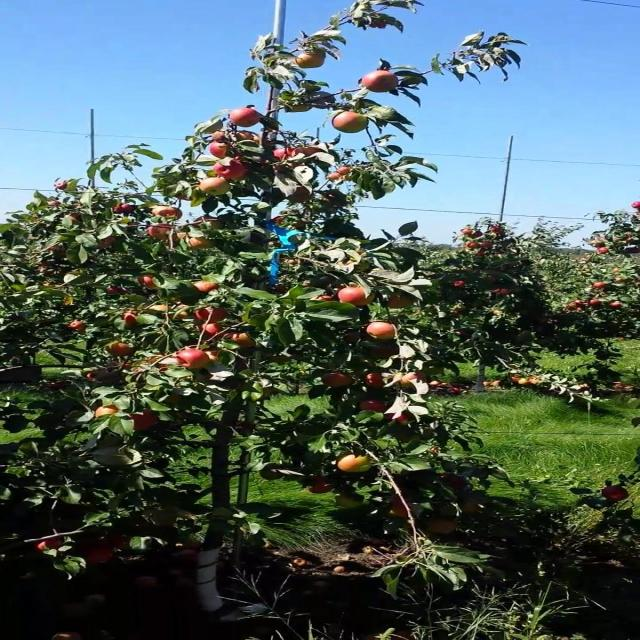apple: (360, 70, 398, 92), (331, 111, 367, 132), (213, 160, 249, 180), (338, 286, 373, 306), (229, 108, 262, 128), (336, 454, 371, 472), (176, 349, 209, 368), (80, 545, 113, 564), (129, 410, 158, 431), (193, 306, 229, 322), (198, 178, 231, 195), (144, 355, 178, 371), (367, 321, 396, 339), (440, 472, 469, 490), (322, 372, 353, 388), (427, 518, 458, 534), (369, 342, 400, 358), (600, 485, 629, 502), (104, 341, 136, 356), (296, 52, 324, 69), (307, 476, 333, 494), (393, 372, 424, 387), (336, 492, 364, 508), (147, 222, 173, 239), (387, 294, 416, 309), (151, 205, 182, 219), (193, 215, 224, 229), (287, 185, 311, 202), (384, 410, 413, 424), (231, 332, 256, 348), (209, 141, 231, 158), (36, 538, 64, 551), (358, 400, 387, 412), (327, 166, 351, 180), (107, 534, 129, 549), (93, 405, 118, 418), (389, 500, 407, 518), (364, 372, 384, 388), (187, 236, 213, 248), (193, 280, 218, 292), (84, 369, 109, 381), (460, 502, 484, 514), (202, 322, 222, 336), (113, 202, 136, 214), (273, 148, 296, 160), (233, 130, 258, 141), (138, 275, 158, 288), (171, 305, 189, 319), (342, 330, 360, 344), (122, 311, 138, 326), (67, 320, 87, 332), (98, 235, 116, 248), (299, 146, 322, 156), (287, 104, 311, 112), (160, 356, 178, 366), (211, 131, 227, 142), (313, 294, 336, 301), (107, 286, 127, 294), (206, 350, 220, 361), (289, 158, 304, 166), (173, 232, 189, 239), (272, 162, 282, 172)
